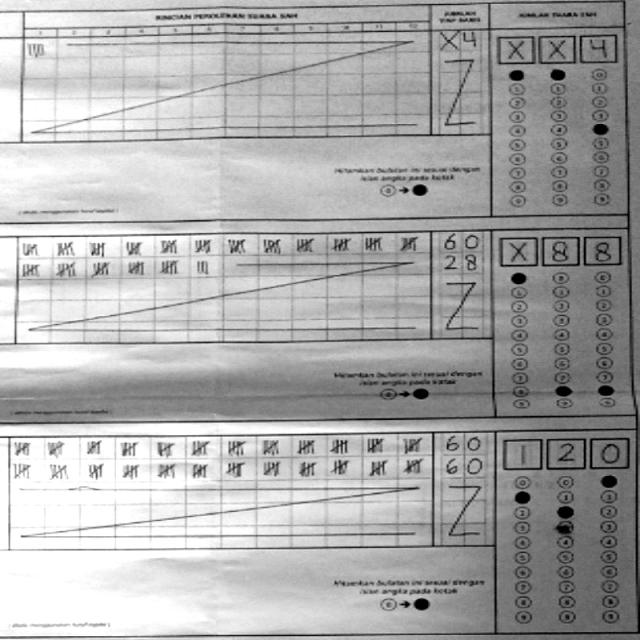Suara: (493, 226, 621, 267), (487, 27, 624, 62), (502, 433, 626, 470)
